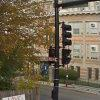Traffic light: (52, 18, 80, 73)
